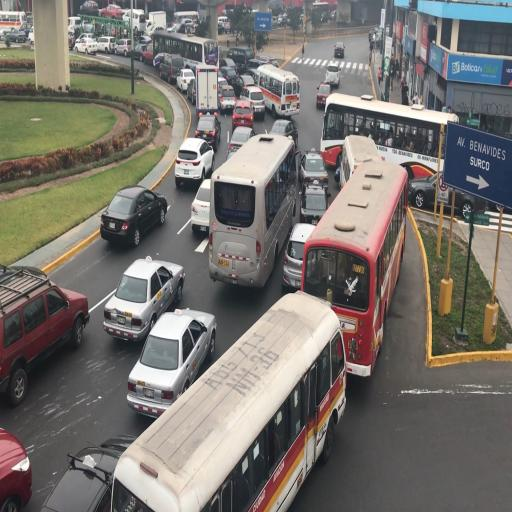auto: (1, 262, 89, 406), (125, 306, 215, 414), (35, 436, 136, 510), (102, 255, 184, 339), (98, 182, 168, 248), (0, 428, 31, 512), (282, 221, 316, 291), (175, 135, 216, 186), (299, 183, 329, 227), (298, 148, 328, 190), (190, 179, 212, 236), (194, 113, 221, 153), (227, 124, 256, 158), (268, 118, 297, 151), (238, 84, 264, 120), (157, 51, 184, 84), (231, 99, 254, 130), (216, 80, 236, 113), (244, 58, 270, 81), (234, 73, 256, 99), (325, 58, 342, 88), (74, 36, 98, 54), (132, 42, 152, 63), (1, 27, 27, 43), (99, 3, 124, 19), (78, 17, 99, 36), (95, 36, 117, 54), (316, 83, 331, 109), (113, 38, 133, 56), (79, 0, 99, 15), (256, 55, 278, 68), (109, 22, 126, 38), (166, 20, 186, 33), (176, 18, 194, 32), (68, 24, 82, 42), (153, 51, 166, 68), (334, 41, 345, 57), (122, 10, 132, 27), (138, 33, 152, 45), (281, 14, 290, 25), (223, 21, 231, 33), (271, 16, 279, 28)
bus: (195, 64, 219, 120)
moto: (114, 294, 332, 506), (301, 144, 403, 370), (324, 93, 456, 187), (152, 30, 218, 86), (340, 132, 383, 193), (255, 62, 299, 120), (227, 44, 253, 70), (144, 10, 168, 36), (174, 10, 200, 26), (311, 1, 330, 22)
